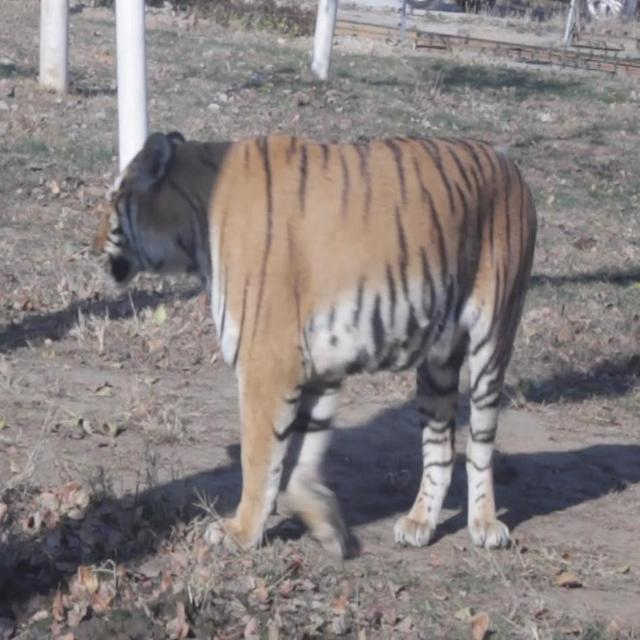tiger: (82, 103, 550, 568)
